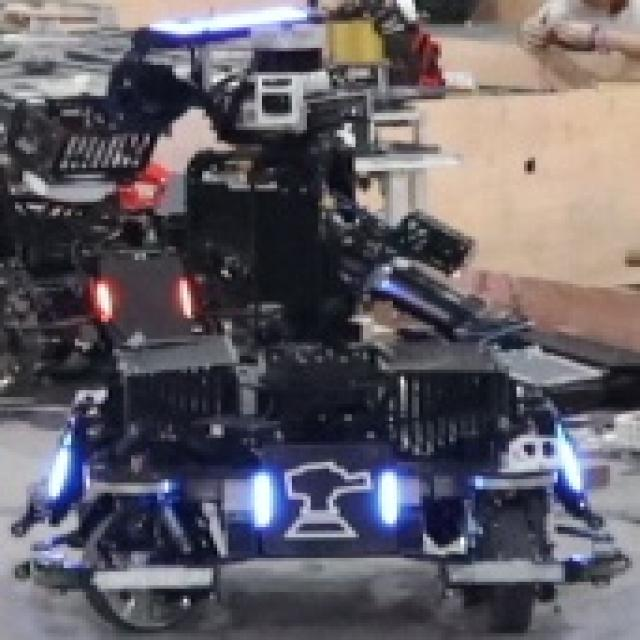Bs: (255, 455, 404, 551)
